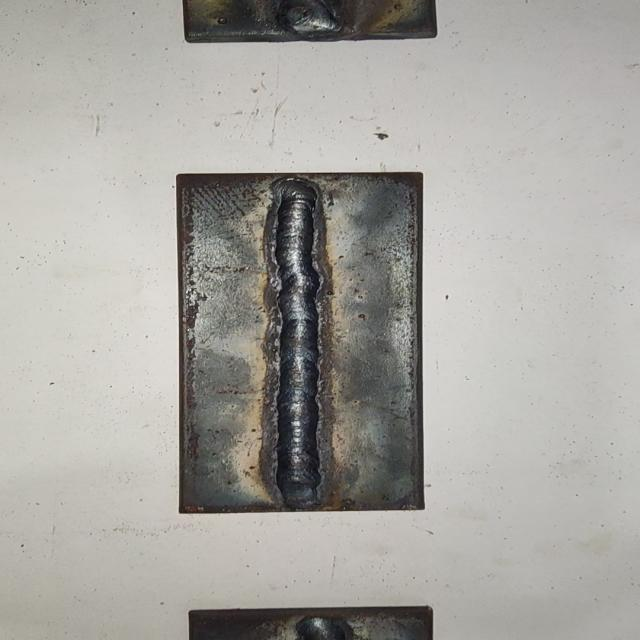Defect: (265, 0, 357, 32)
Welding Line: (274, 182, 322, 496)
Workpiece: (166, 167, 434, 516)
